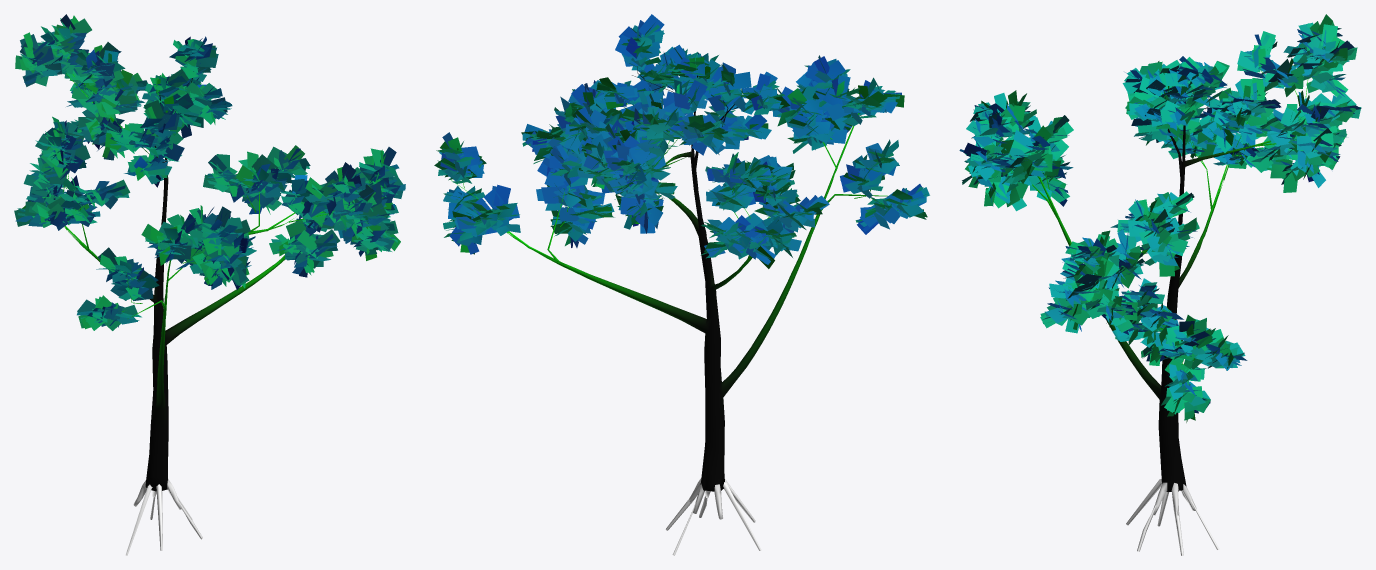
The picture shows the model from 3 angles, left to right: view 1: azimuth 30°, elevation 25°; view 2: azimuth 150°, elevation 25°; view 3: azimuth 270°, elevation 25°; orthographic projection. The views are drawn at different scales.
Parts seen in each view (by area): view 1: Foliage, Trunk, Branches, Twigs, RootTips; view 2: Foliage, Trunk, Branches, Twigs, RootTips; view 3: Foliage, Trunk, Branches, Twigs, RootTips, Roots.
Boxes of the visible parts, bbox=[...] form: Foliage: bbox=[14, 14, 405, 330]; Trunk: bbox=[145, 175, 168, 491]; Branches: bbox=[64, 118, 293, 410]; Twigs: bbox=[49, 57, 334, 318]; RootTips: bbox=[126, 484, 202, 555]; Foliage: bbox=[434, 14, 929, 268]; Trunk: bbox=[690, 149, 724, 491]; Branches: bbox=[507, 126, 853, 396]; Twigs: bbox=[451, 66, 898, 278]; RootTips: bbox=[666, 479, 761, 555]; Foliage: bbox=[959, 14, 1361, 422]; Trunk: bbox=[1158, 159, 1186, 491]; Branches: bbox=[1042, 142, 1267, 399]; Twigs: bbox=[990, 53, 1311, 364]; RootTips: bbox=[1126, 479, 1219, 555]; Roots: bbox=[1152, 482, 1196, 515].
Size of the model in its own units: 15379 by 13030 by 18474.
